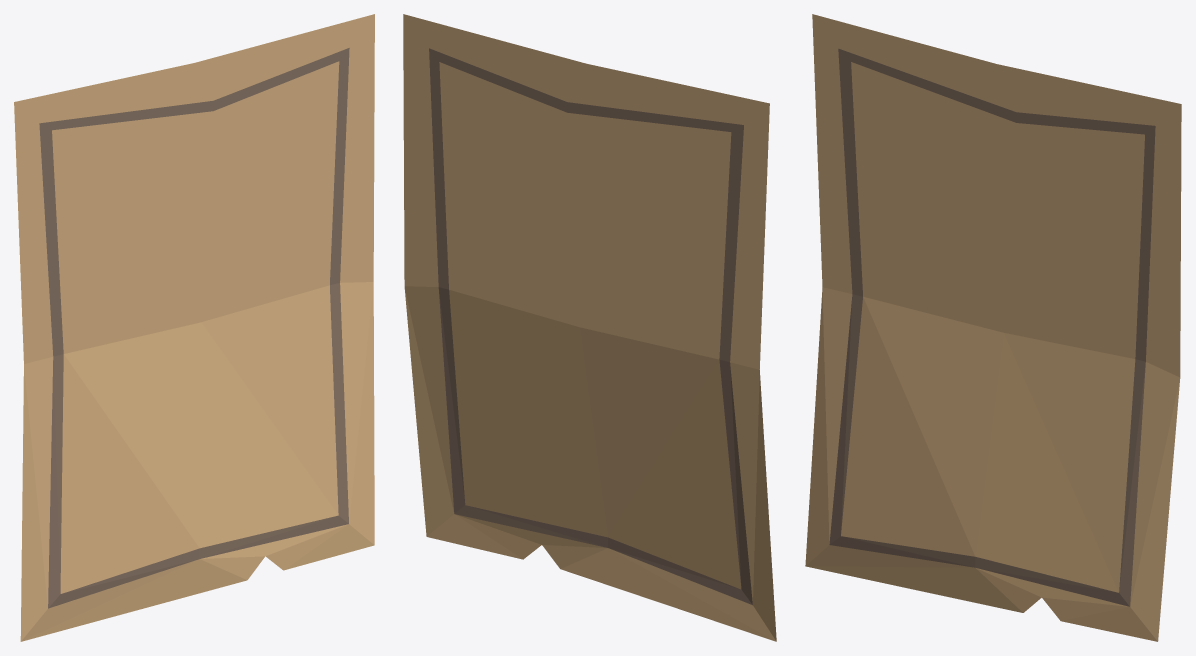
The model's file is SFHW_Paper_021.fbx.
3 renders of one model, left to right at view 1: azimuth 30°, elevation 25°; view 2: azimuth 150°, elevation 25°; view 3: azimuth 330°, elevation 25°, orthographic. The views are drawn at different scales.
Parts seen in each view (by area): view 1: SFHW_Paper_021; view 2: SFHW_Paper_021; view 3: SFHW_Paper_021.
Part boxes in pixels (x1,y1,x2,y2): SFHW_Paper_021: [14, 14, 374, 641]; SFHW_Paper_021: [403, 14, 776, 641]; SFHW_Paper_021: [805, 14, 1181, 641].
Size of the model in its own units: 19.26 by 27.28 by 1.26.
